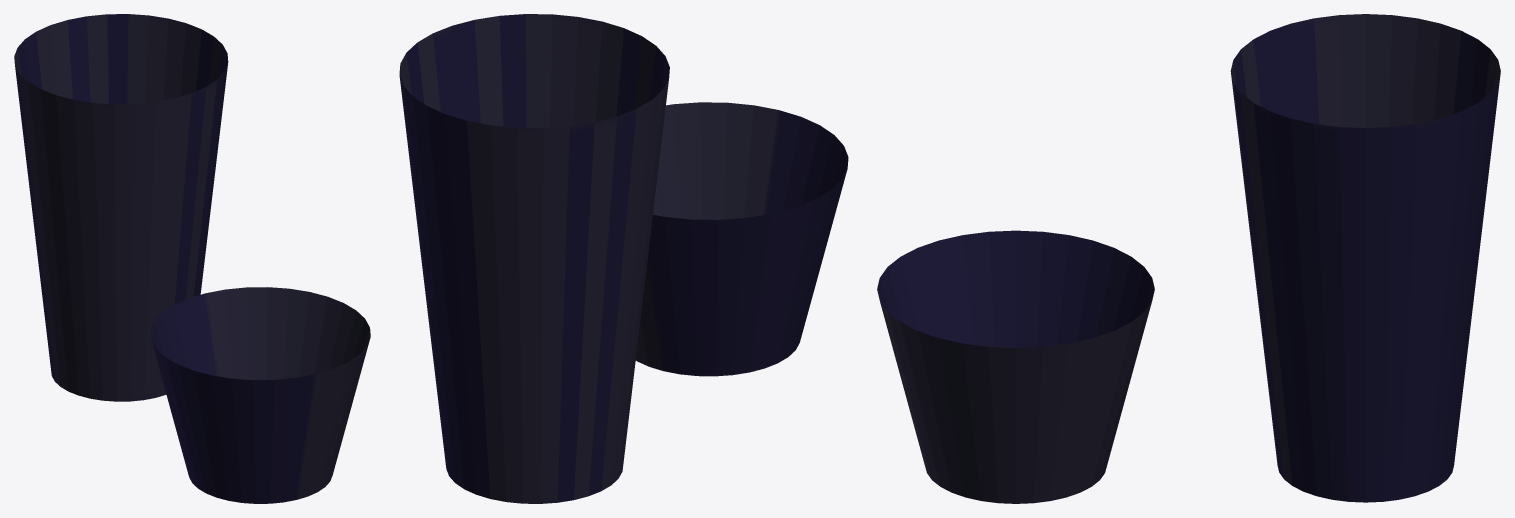
Rendered from shakeropen.fbx.
3 renders of one model, left to right at view 1: azimuth 30°, elevation 25°; view 2: azimuth 150°, elevation 25°; view 3: azimuth 270°, elevation 25°, orthographic. The views are drawn at different scales.
Parts seen in each view (by area): view 1: Cylinder, Cylinder.001; view 2: Cylinder, Cylinder.001; view 3: Cylinder, Cylinder.001.
Boxes of the visible parts, x1,y1,x2,y2 form: Cylinder: (14,14,228,401); Cylinder.001: (150,287,370,503); Cylinder: (399,14,669,503); Cylinder.001: (635,102,848,376); Cylinder: (1230,14,1500,502); Cylinder.001: (877,230,1154,503).
Bounding box in the file's own units: 715 × 1119 × 1605.
